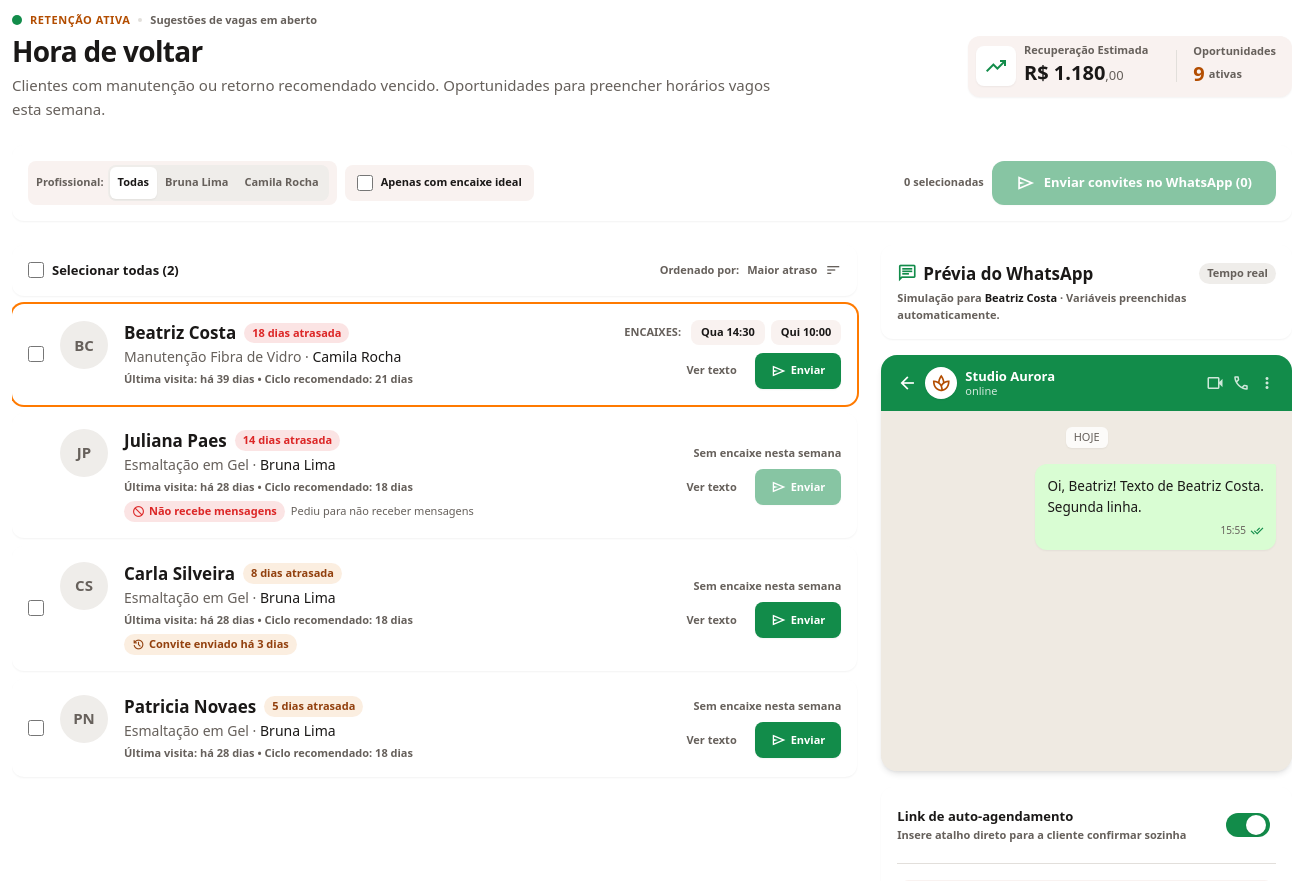
HoraDeVoltar › "Selecionar todas" ignora bloqueadas e convidadas há menos de 7 dias, e o botão mostra a contagem
The image size is (1292, 881).
Expected: the text "18 dias atrasada" is shown, [244,323,350,343]
Expected: the text "Convite enviado há 3 dias" is shown, [124,634,297,654]
Click the checkbox labelled "Selecionar todas (2)".
click(36, 270)  # box [28,262,44,278]
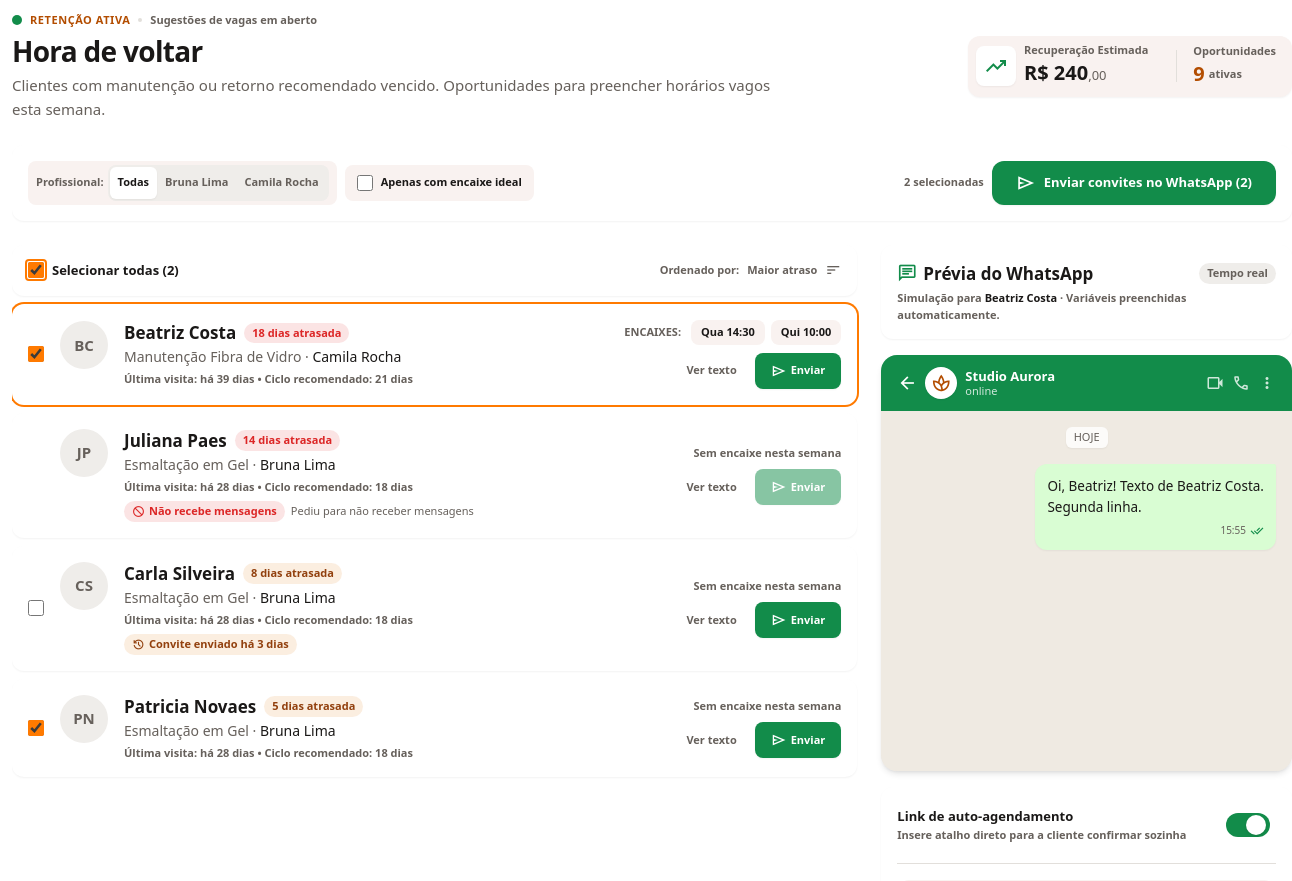
Expected: the checkbox named "Selecionar Beatriz Costa" is checked, [28,346,44,362]
Expected: the checkbox named "Selecionar Patricia Novaes" is checked, [28,720,44,736]
Expected: the text "2 selecionadas" is shown, [904,174,984,191]
